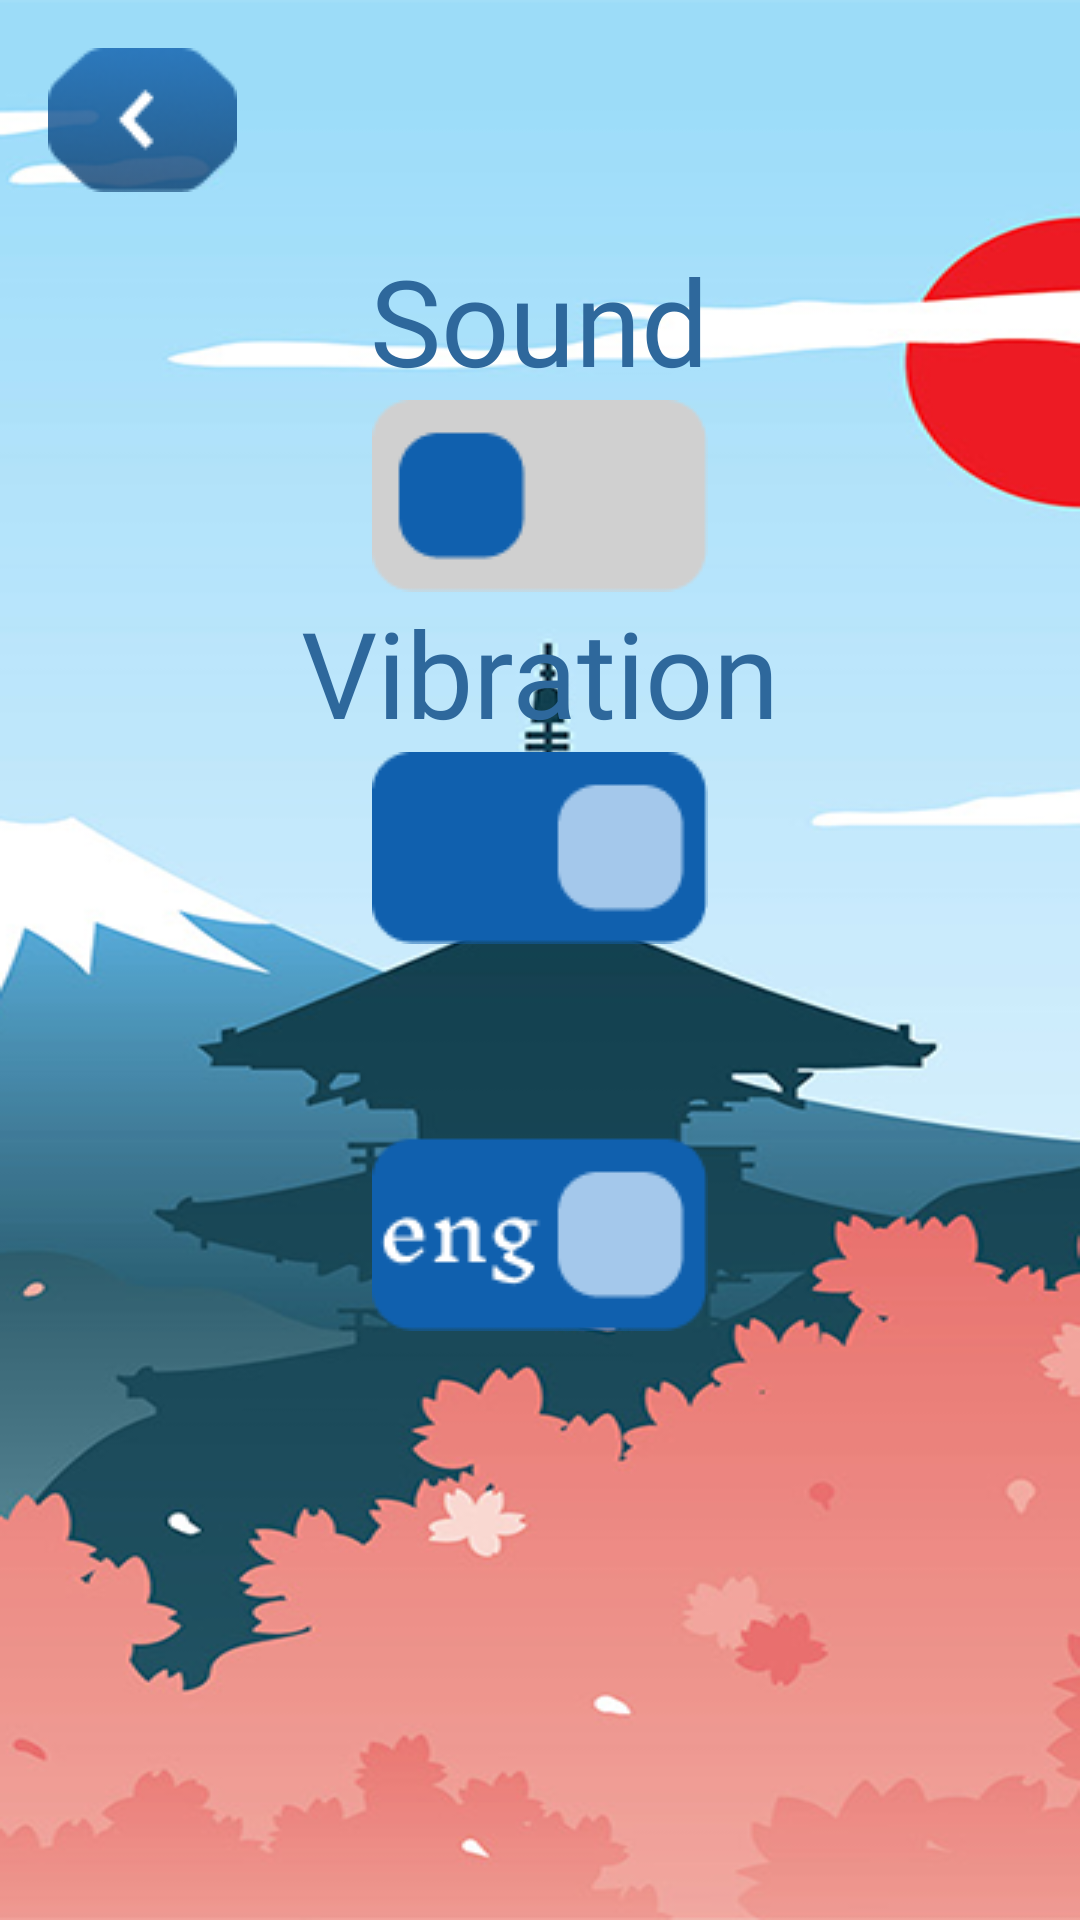

Locate icon controls on the screen. Image size 1080px×1920px, boxes as (left=x1, top=y1, right=x2, bottom=y2).
back: (left=48, top=48, right=237, bottom=192)
